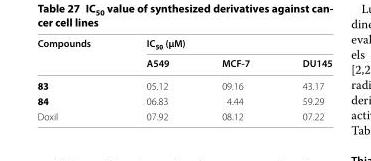table: (36, 36, 331, 121)
table column: (36, 36, 117, 121), (194, 36, 275, 121), (117, 36, 194, 121), (275, 36, 331, 121)
table column header: (36, 36, 331, 74)
table row: (36, 53, 331, 74), (36, 74, 331, 93), (36, 36, 331, 53), (36, 93, 331, 108), (36, 108, 331, 121)
table spanning cell: (117, 36, 331, 53), (36, 36, 117, 74)
